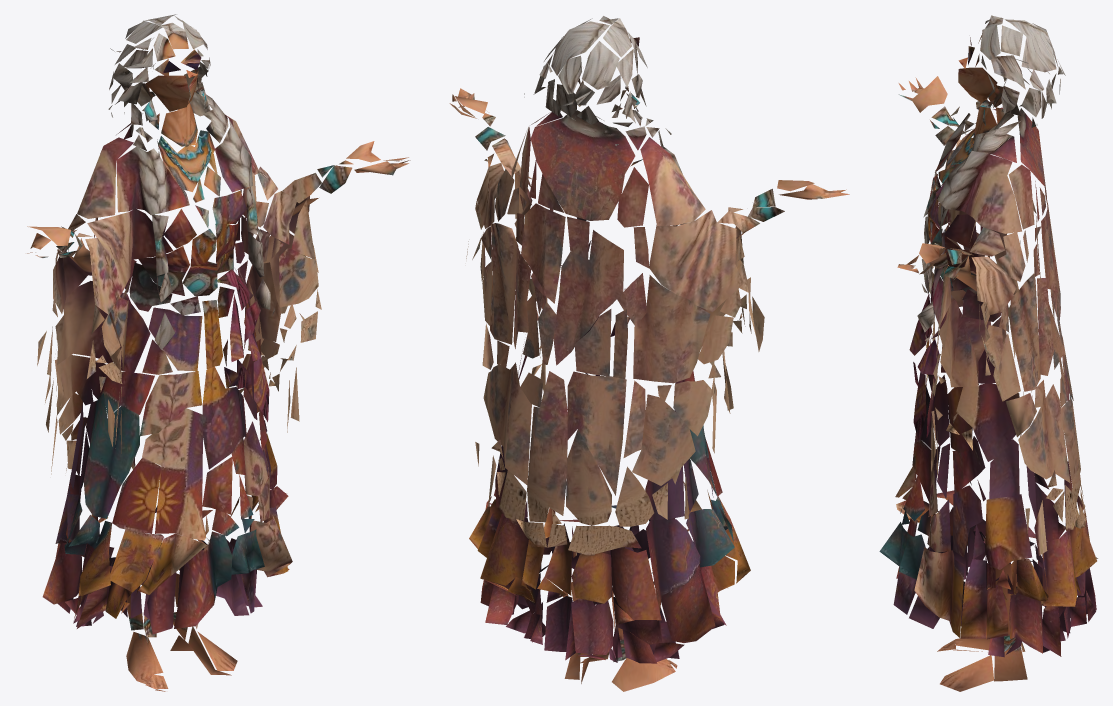
File: person4.glb
3 views of the same model, side by side, from view 1: azimuth 30°, elevation 25°; view 2: azimuth 150°, elevation 25°; view 3: azimuth 270°, elevation 25° (orthographic). The views are drawn at different scales.
Parts seen in each view (by area): view 1: tripo_node_95ba37cf-c5d3-4187-b725-c651efca8ffb; view 2: tripo_node_95ba37cf-c5d3-4187-b725-c651efca8ffb; view 3: tripo_node_95ba37cf-c5d3-4187-b725-c651efca8ffb.
Boxes of the visible parts, box(x1,y1,x2,y2) form: tripo_node_95ba37cf-c5d3-4187-b725-c651efca8ffb: box(27, 14, 410, 691); tripo_node_95ba37cf-c5d3-4187-b725-c651efca8ffb: box(449, 16, 849, 691); tripo_node_95ba37cf-c5d3-4187-b725-c651efca8ffb: box(879, 15, 1097, 691).
Bounding box in the file's own units: 1.13 × 1.75 × 0.5304.
1 material, 1 textured.
